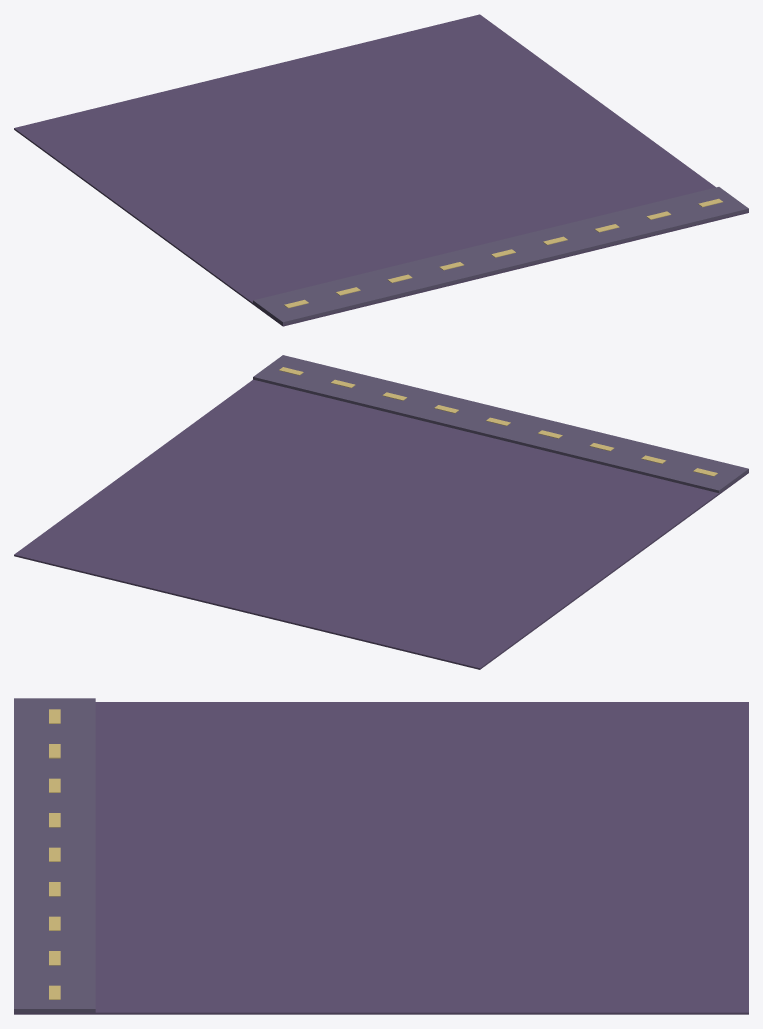
Rendered from stage_00.glb.
3 views of the same model, one above another, from view 1: azimuth 30°, elevation 25°; view 2: azimuth 150°, elevation 25°; view 3: azimuth 270°, elevation 25° (orthographic). The views are drawn at different scales.
Parts seen in each view (by area): view 1: geometry_0; view 2: geometry_0; view 3: geometry_0.
Part boxes in pixels (bbox=[...]): geometry_0: bbox=[14, 14, 748, 326]; geometry_0: bbox=[14, 355, 748, 669]; geometry_0: bbox=[14, 698, 748, 1014].
Size of the model in its own units: 9 by 0.091 by 9.
